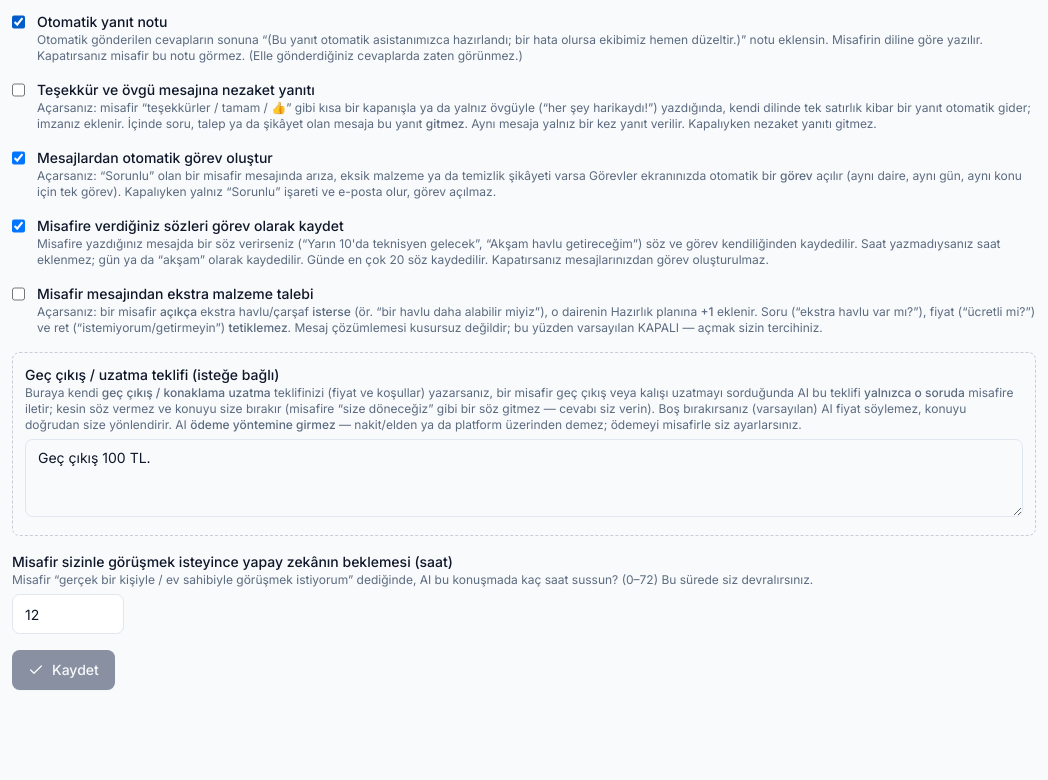
it: otomasyon ayarları — kayıt sürerken yazılan kaybolmaz (X4) › KONTROL: istek sürerken dokunulmayan metin sunucunun kırpılmış hâline çevrilir ve 'Kaydedildi' görünür
The width and height of the screenshot is (1048, 780).
Replace the text in the text box with id "late-checkout-offer" with "  Geç çıkış 300 TL.  " at (524, 478), box [25,439,1023,517]
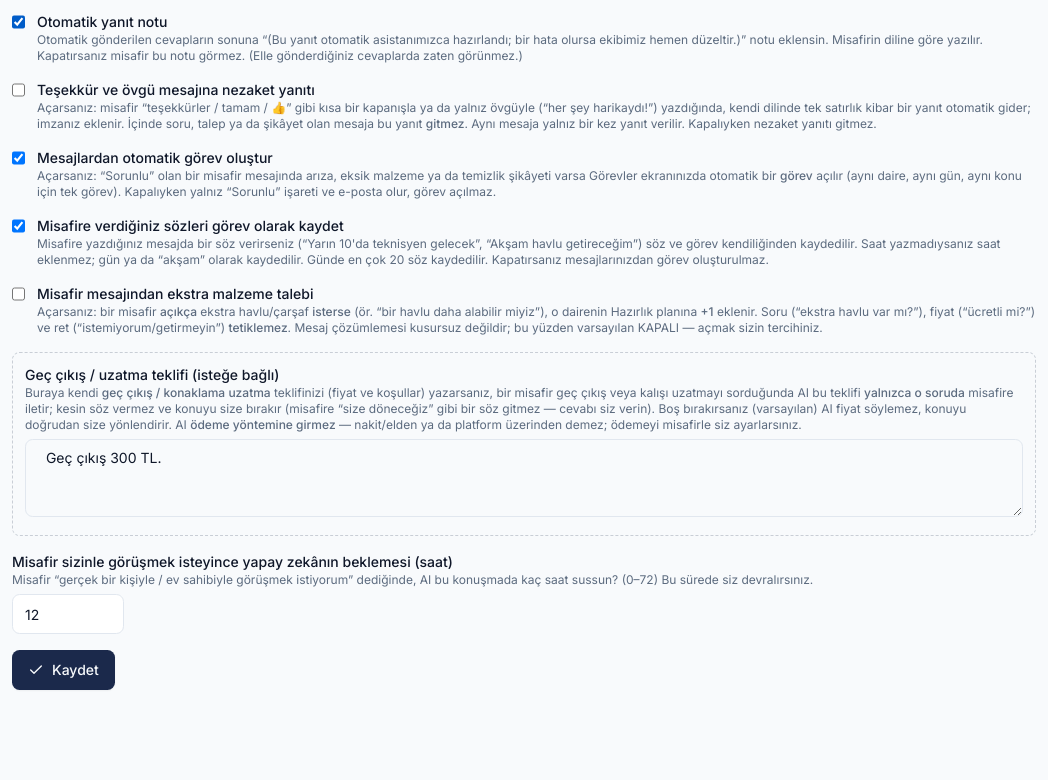
Click the button "Kaydet".
click(63, 670)  # box [12,650,115,690]
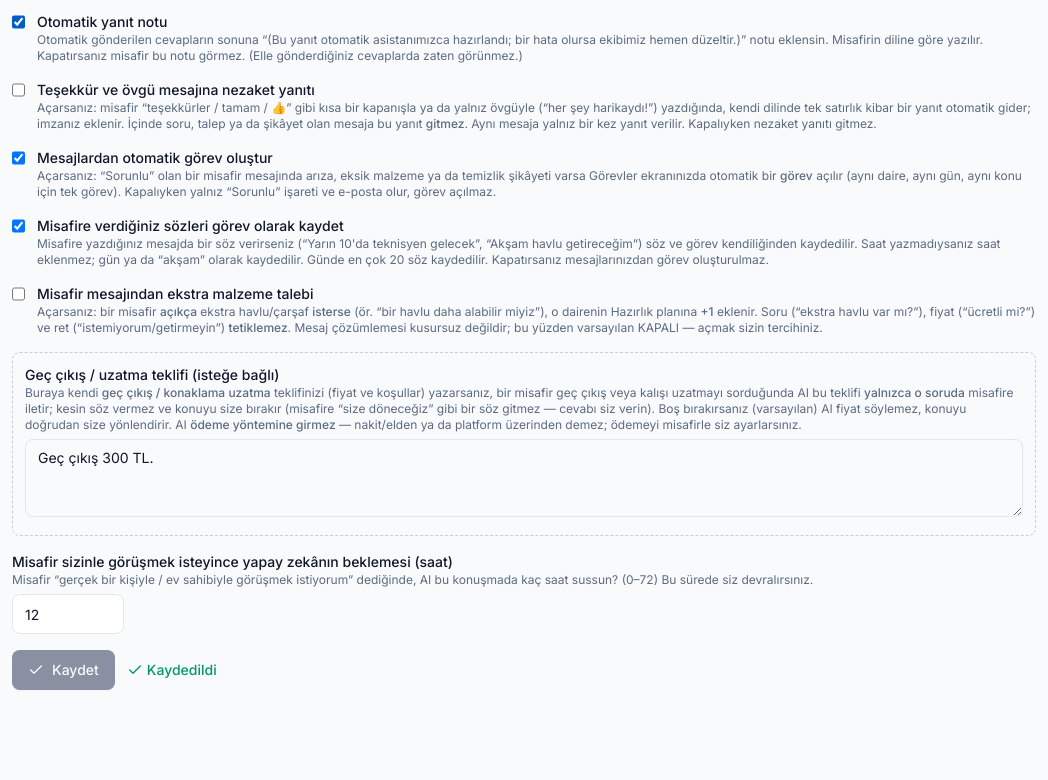
Check: the text "Kaydedildi" is shown, box [127,660,217,680]
Check: the button "Kaydet" is disabled, box [12,650,115,690]
